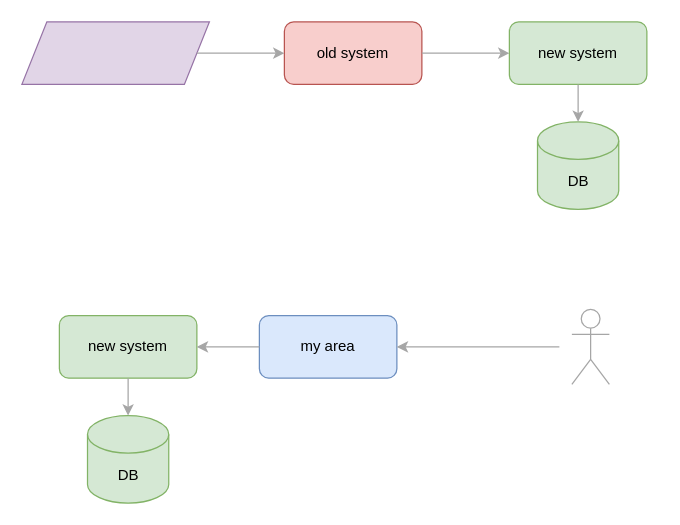
Image size: 680x525. Some labels were removed from this diagram. The shapes that lost their labels are listed below. From the top down, each one's box as (x1, y1, x2, y2) in pixels, then its label:
(21, 21, 209, 84): cancellation signal from airline
(571, 308, 609, 384): Customer accessing website or app
